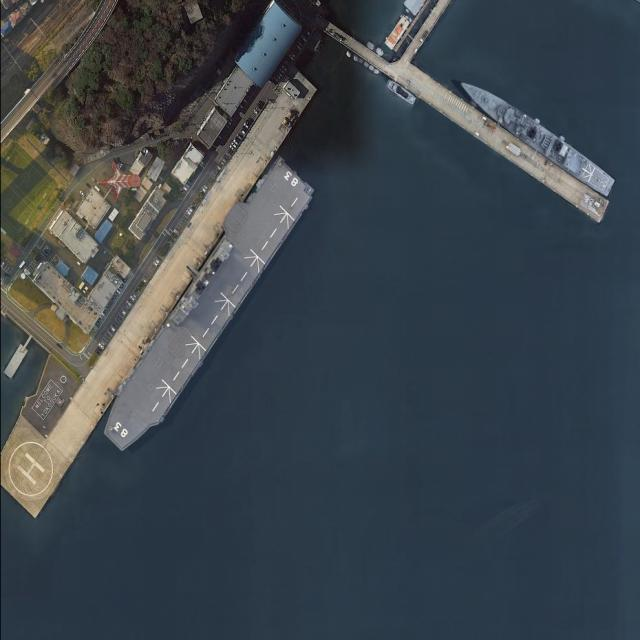Destroyer: (89, 150, 326, 458), (451, 74, 619, 198)
Dock: (398, 65, 616, 223)
